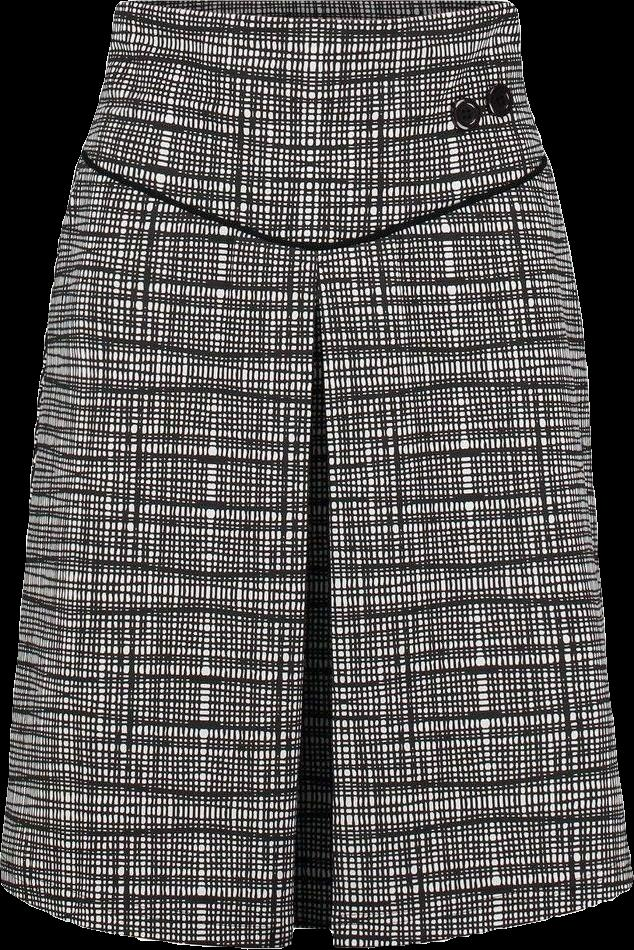Hemline: (0, 877, 633, 948)
Waistline: (77, 148, 551, 256), (116, 0, 513, 29)
